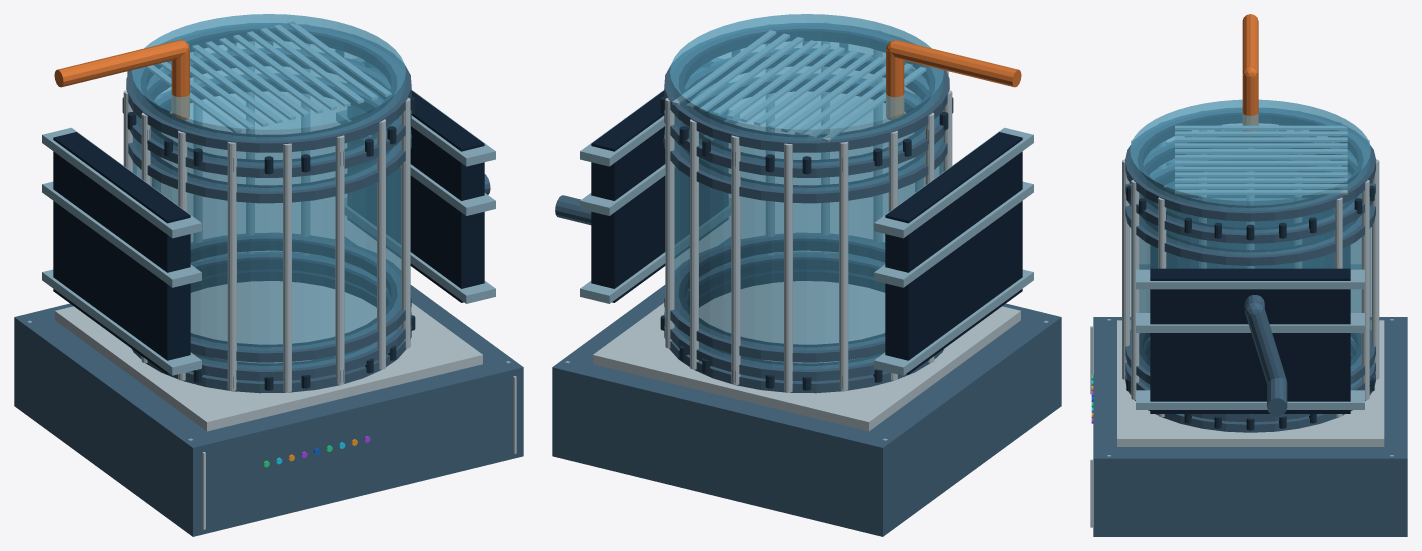
Rendered from 01_L72_TransparentALDReactorChamber.fbx.
3 views of the same model, side by side, from view 1: azimuth 30°, elevation 25°; view 2: azimuth 150°, elevation 25°; view 3: azimuth 270°, elevation 25° (orthographic). The views are drawn at different scales.
Parts seen in each view (by area): view 1: TransparentALDReactorChamber; view 2: TransparentALDReactorChamber; view 3: TransparentALDReactorChamber.
Part boxes in pixels (left/top/right/bottom): TransparentALDReactorChamber: left=14, top=14, right=523, bottom=536; TransparentALDReactorChamber: left=552, top=14, right=1061, bottom=536; TransparentALDReactorChamber: left=1090, top=14, right=1407, bottom=536.
Size of the model in its own units: 420 by 375 by 298.
